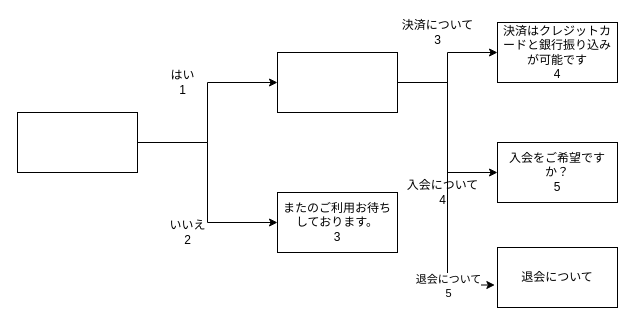
Some shapes in this 635 by 325 pixel diagram are drawn without their labels. The box of each missing label's shape, as (x1, y1, x2, y2) in pixels:
何について知りたいですか？ 2: (276, 52, 398, 112)
質問がありますか？ 1: (16, 112, 138, 172)
